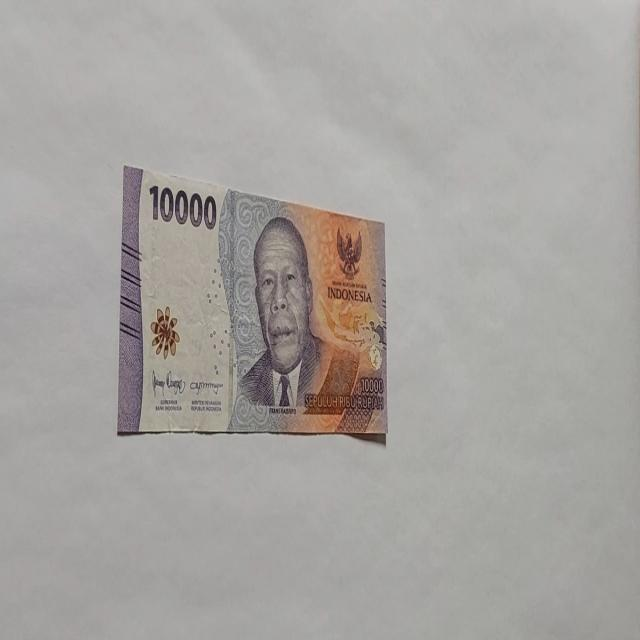sepuluh ribu rupiah: (116, 163, 388, 441), (116, 164, 237, 434), (228, 213, 358, 431)
